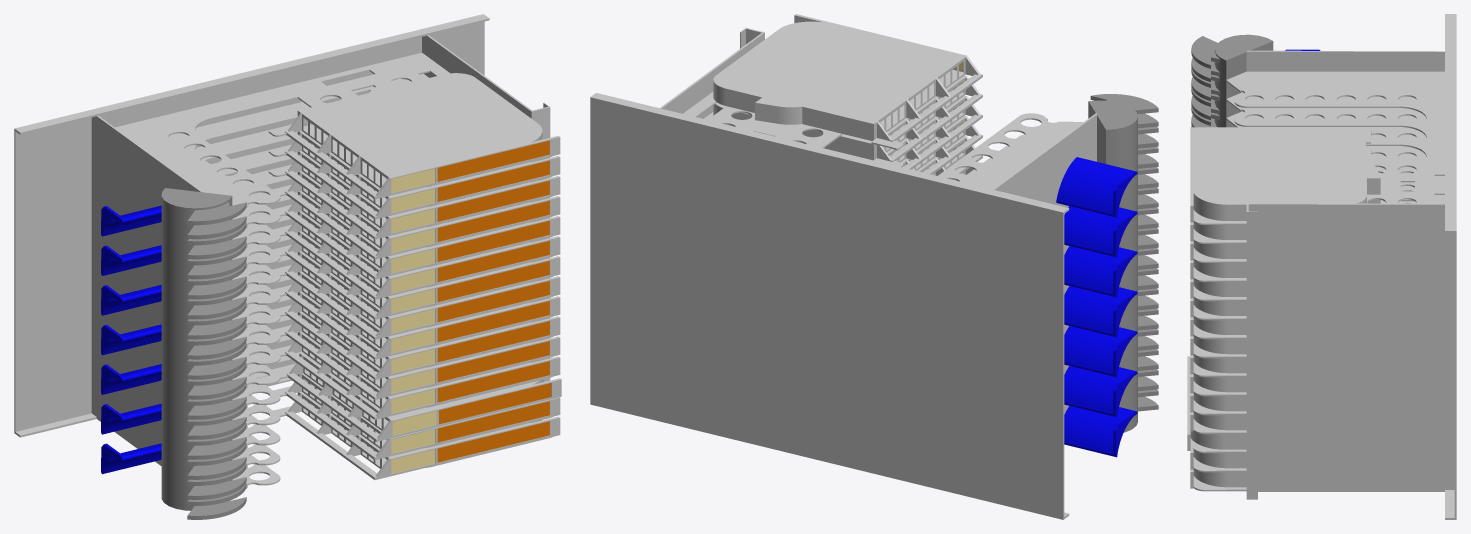
The model's file is Chassis-LISA-7U-R.glb.
The picture shows the model from 3 angles, left to right: view 1: azimuth 30°, elevation 25°; view 2: azimuth 150°, elevation 25°; view 3: azimuth 270°, elevation 25°; orthographic projection. The views are drawn at different scales.
Parts seen in each view (by area): view 1: Geom3D (×61), Geom3D_ (×38); view 2: Geom3D_ (×13), Geom3D (×5); view 3: Geom3D_ (×10), Geom3D (×30).
Boxes of the visible parts, box(x1,y1,x2,y2) form: Geom3D (×61): box(15, 18, 561, 488); Geom3D_ (×38): box(14, 14, 550, 519); Geom3D_ (×13): box(590, 28, 1158, 519); Geom3D (×5): box(683, 14, 1083, 189); Geom3D_ (×10): box(1191, 14, 1456, 519); Geom3D (×30): box(1187, 71, 1444, 491).
Bounding box in the file's own units: 0.5 × 0.3103 × 0.2619.
